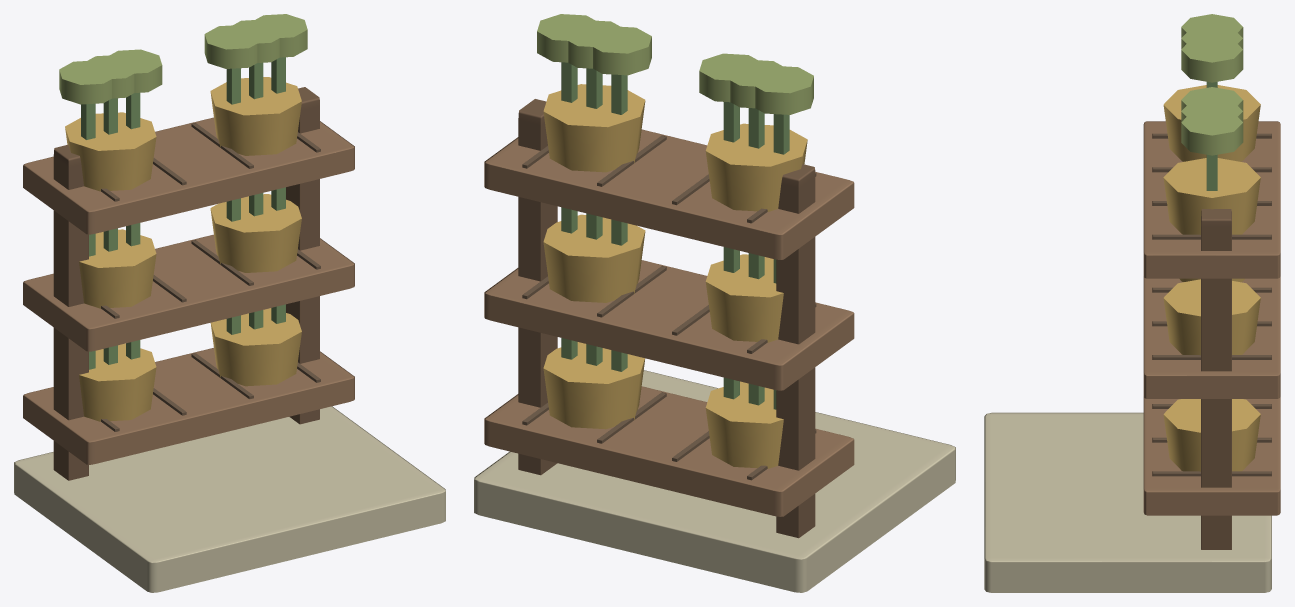
File: herbshelf-3.glb
3 views of the same model, side by side, from view 1: azimuth 30°, elevation 25°; view 2: azimuth 150°, elevation 25°; view 3: azimuth 270°, elevation 25° (orthographic). The views are drawn at different scales.
Parts seen in each view (by area): view 1: herbshelf-3-0; view 2: herbshelf-3-0; view 3: herbshelf-3-0.
Boxes of the visible parts, x1,y1,x2,y2 form: herbshelf-3-0: (14,14,445,592); herbshelf-3-0: (474,14,955,592); herbshelf-3-0: (984,14,1280,592).
Size of the model in its own units: 0.8 by 1.1 by 0.67.
